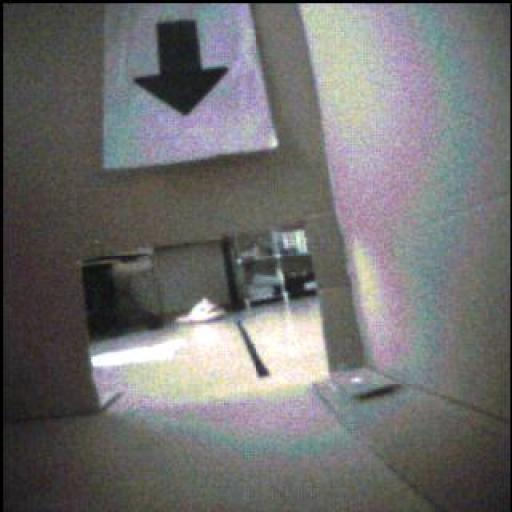arrow: (136, 22, 229, 116)
